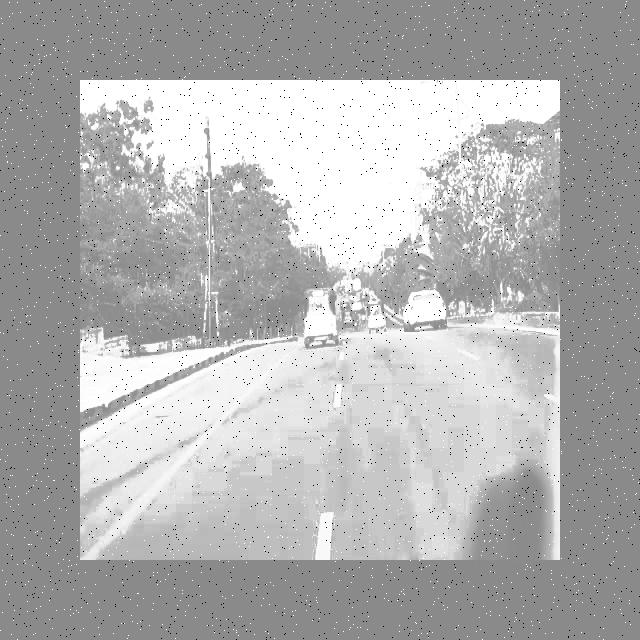Auto-Rickshaw: (300, 290, 342, 352), (367, 300, 388, 337)
Car: (397, 284, 455, 338)
